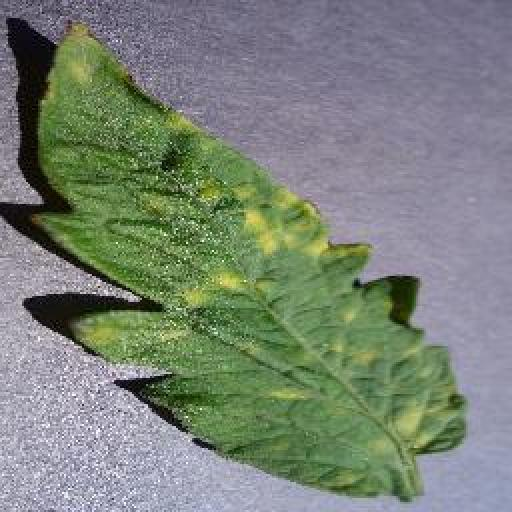disease_tomato: (34, 16, 470, 498)
